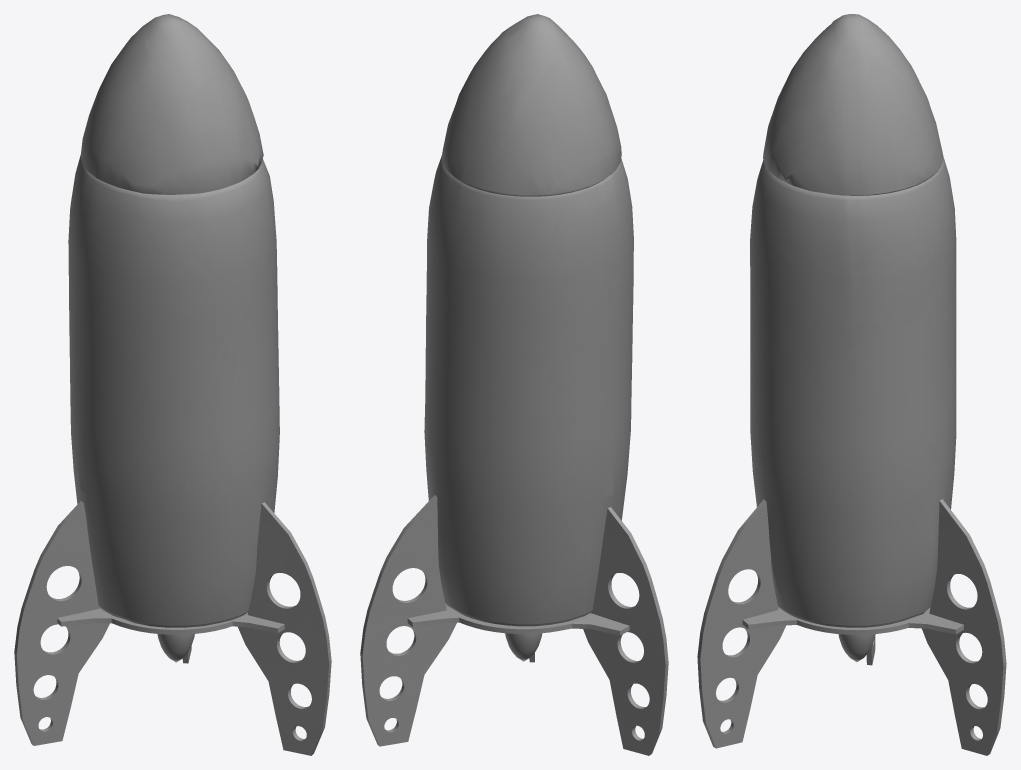
3 views of the same model, side by side, from view 1: azimuth 30°, elevation 25°; view 2: azimuth 150°, elevation 25°; view 3: azimuth 270°, elevation 25° (orthographic).
Visible parts, largest first — view 1: LowPoly; view 2: LowPoly; view 3: LowPoly.
Part boxes in pixels (x1,y1,x2,y2): LowPoly: (14, 14, 331, 755); LowPoly: (360, 14, 668, 755); LowPoly: (697, 14, 1006, 755).
Bounding box in the file's own units: 8.52 × 23.61 × 9.51.
Materials: 1 (1 with a texture image).
